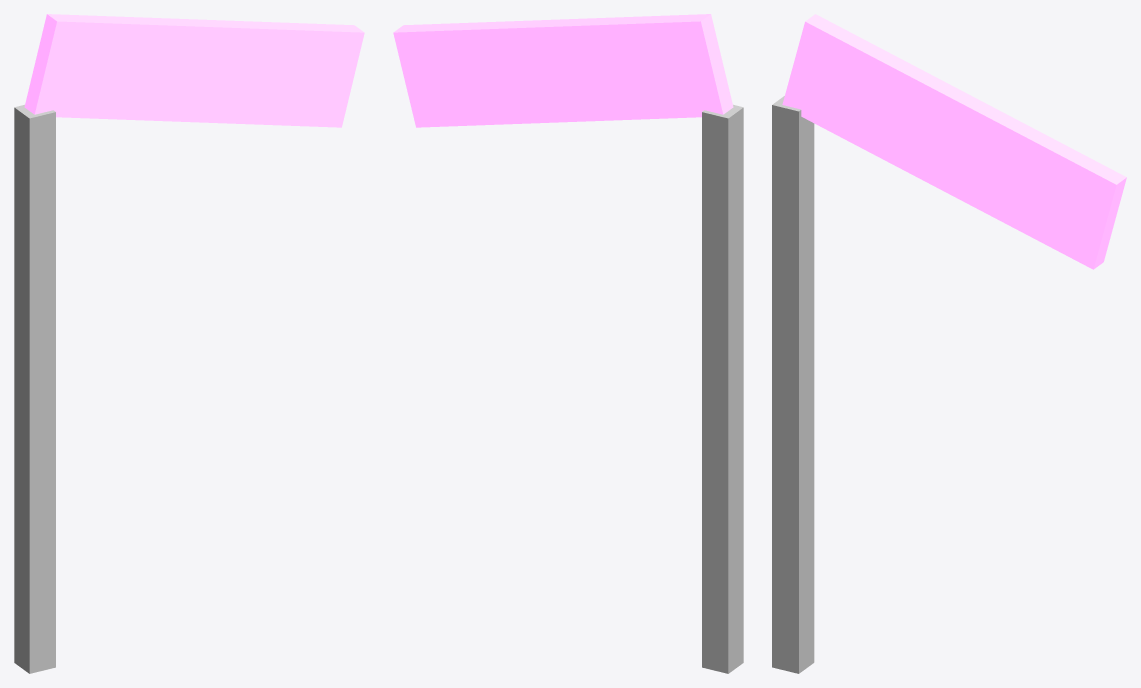
Rendered from FXScythe.fbx.
3 renders of one model, left to right at view 1: azimuth 30°, elevation 25°; view 2: azimuth 150°, elevation 25°; view 3: azimuth 330°, elevation 25°, orthographic.
Parts seen in each view (by area): view 1: FX Scythe_body_1, FX Scythe_body_0; view 2: FX Scythe_body_1, FX Scythe_body_0; view 3: FX Scythe_body_1, FX Scythe_body_0.
Boxes of the visible parts, x1,y1,x2,y2 form: FX Scythe_body_1: [24, 14, 364, 127]; FX Scythe_body_0: [14, 104, 55, 673]; FX Scythe_body_1: [393, 14, 733, 127]; FX Scythe_body_0: [702, 104, 743, 673]; FX Scythe_body_1: [782, 14, 1126, 269]; FX Scythe_body_0: [772, 96, 814, 673].
Size of the model in its own units: 191 by 347 by 15.
